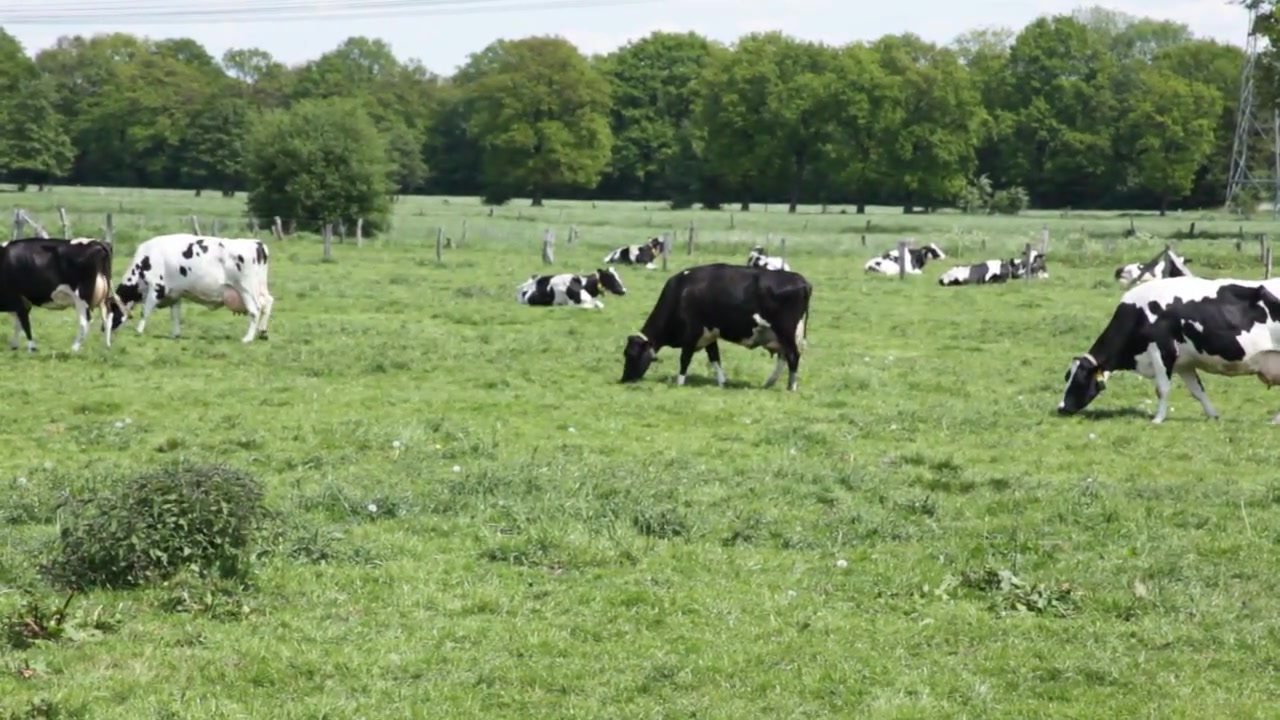cow: (1063, 275, 1280, 424)
